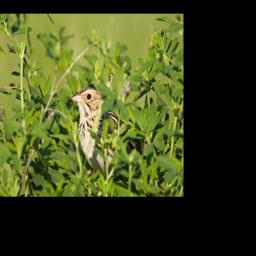Sparrow: (69, 86, 147, 184)
